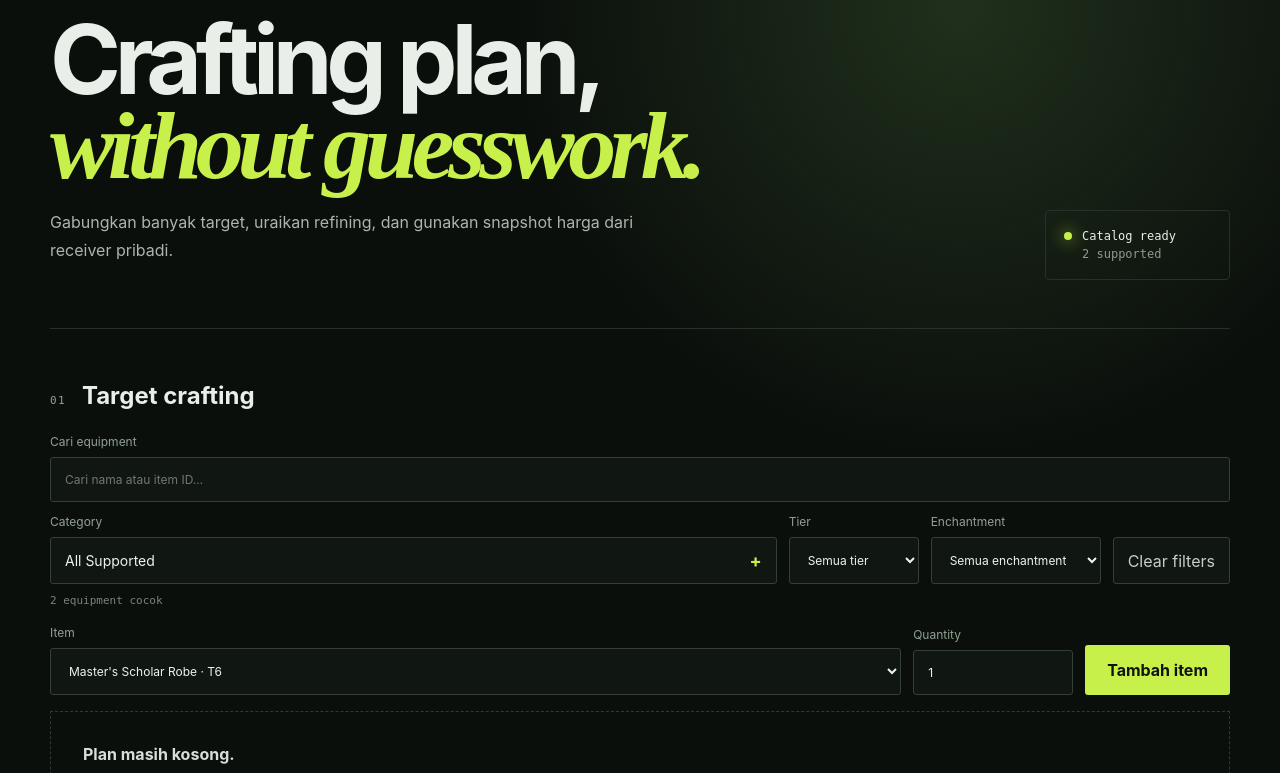
Test case: multi-target crafting planner › invalidates a pending price request when the target changes
Expected: the dropdown named "Item crafting" is shown, x1=50 y1=648 x2=901 y2=695
Click the button "Tambah item".
click(1158, 670)  # box x1=1085 y1=645 x2=1230 y2=695
(page scrolled)
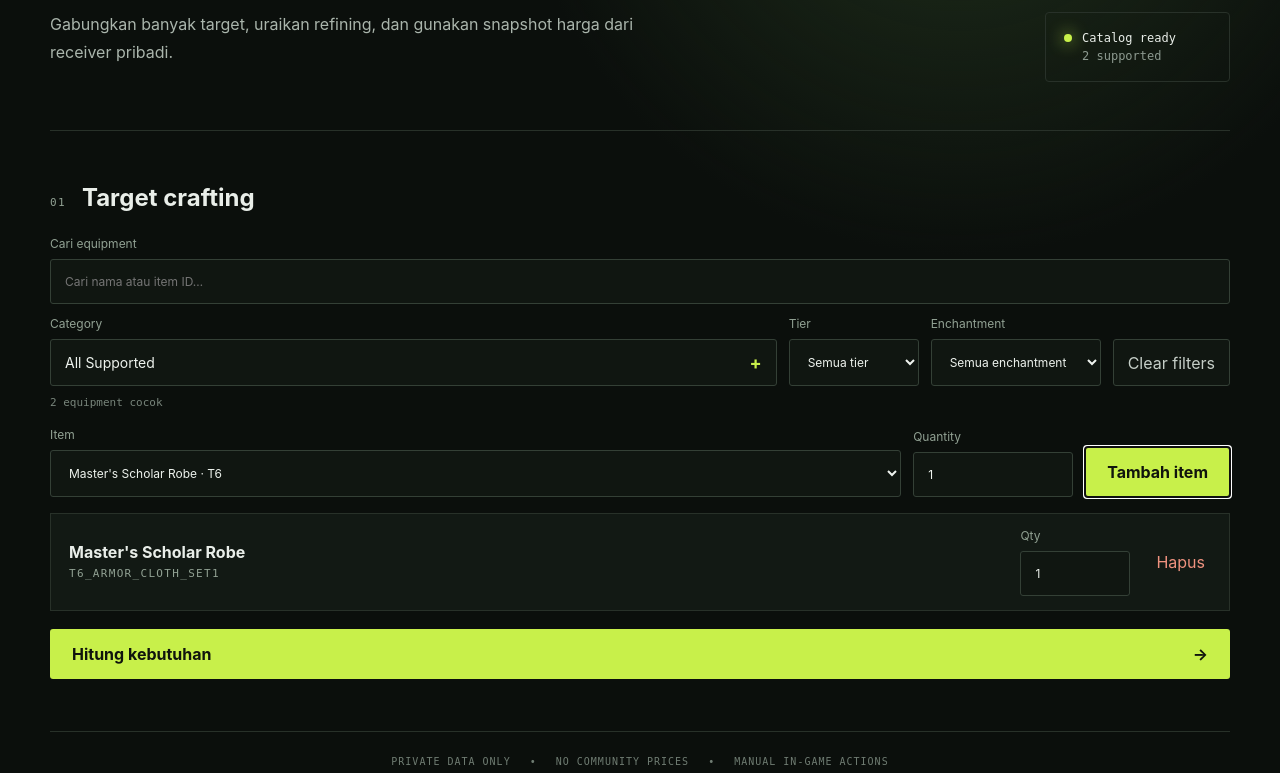
Click the button "Hitung kebutuhan →".
click(142, 654)  # box x1=50 y1=629 x2=1230 y2=679
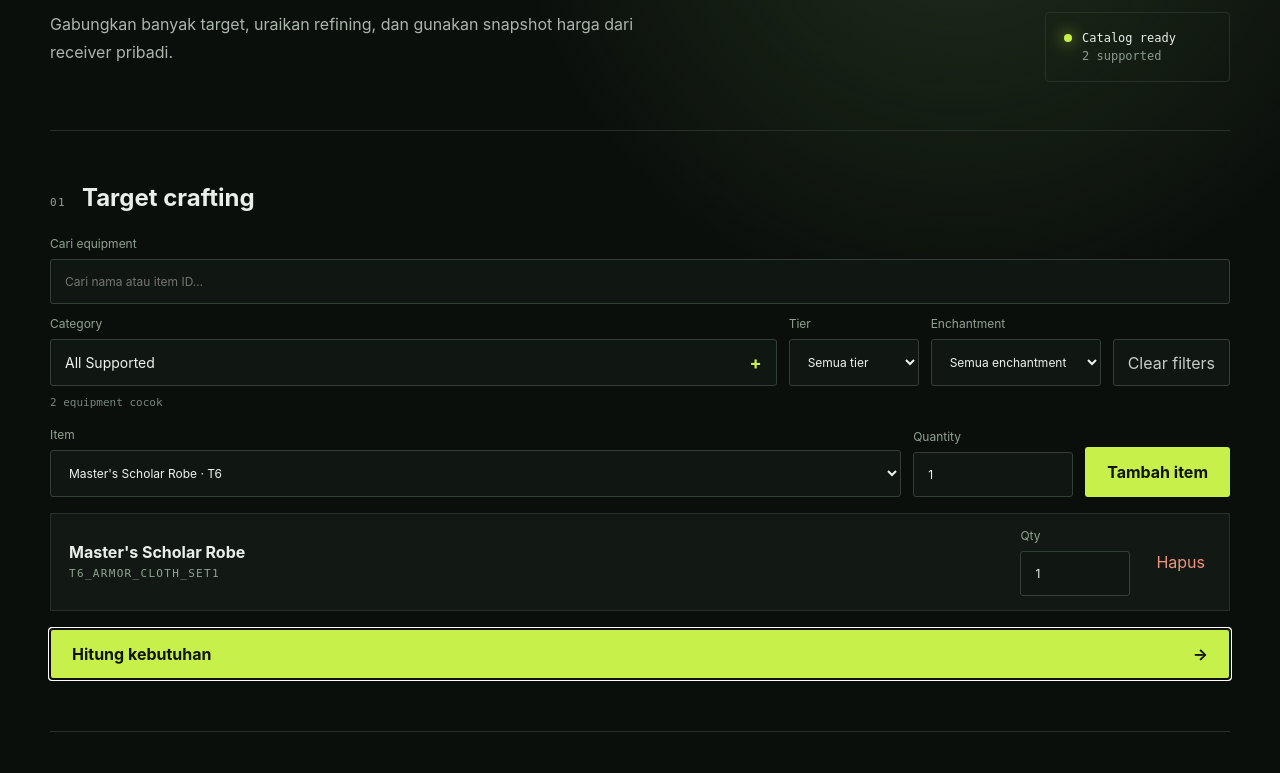
Click the button "Hapus".
click(1181, 562)  # box x1=1150 y1=551 x2=1211 y2=573
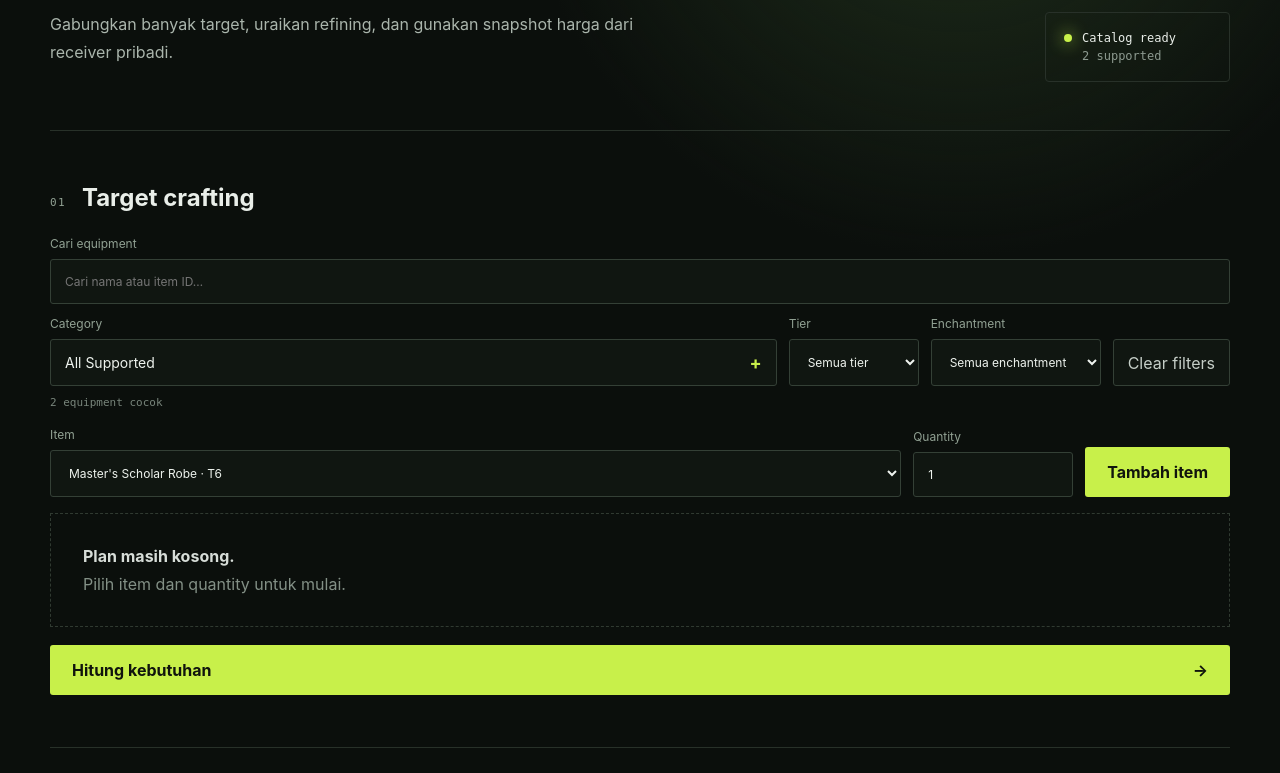
Now the text "Plan masih kosong." is shown, box x1=83 y1=546 x2=235 y2=566
